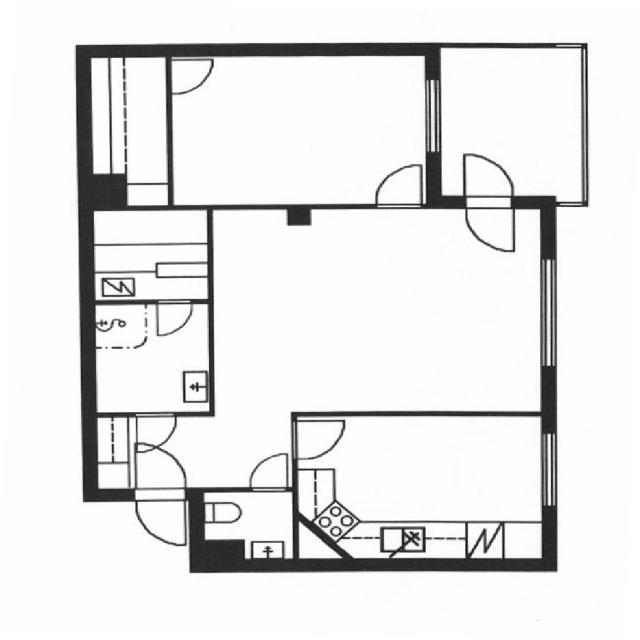door: (455, 148, 521, 256), (130, 487, 192, 550), (366, 156, 426, 210), (290, 412, 353, 462), (126, 408, 181, 462), (164, 51, 221, 99), (242, 448, 292, 493), (147, 295, 197, 340)
window: (530, 252, 568, 374), (418, 74, 449, 160), (535, 427, 566, 513)
zone: (213, 202, 556, 408), (167, 51, 436, 208), (296, 411, 556, 558), (434, 42, 590, 202), (87, 298, 212, 416), (84, 50, 170, 206), (84, 205, 216, 302), (199, 488, 296, 564)
